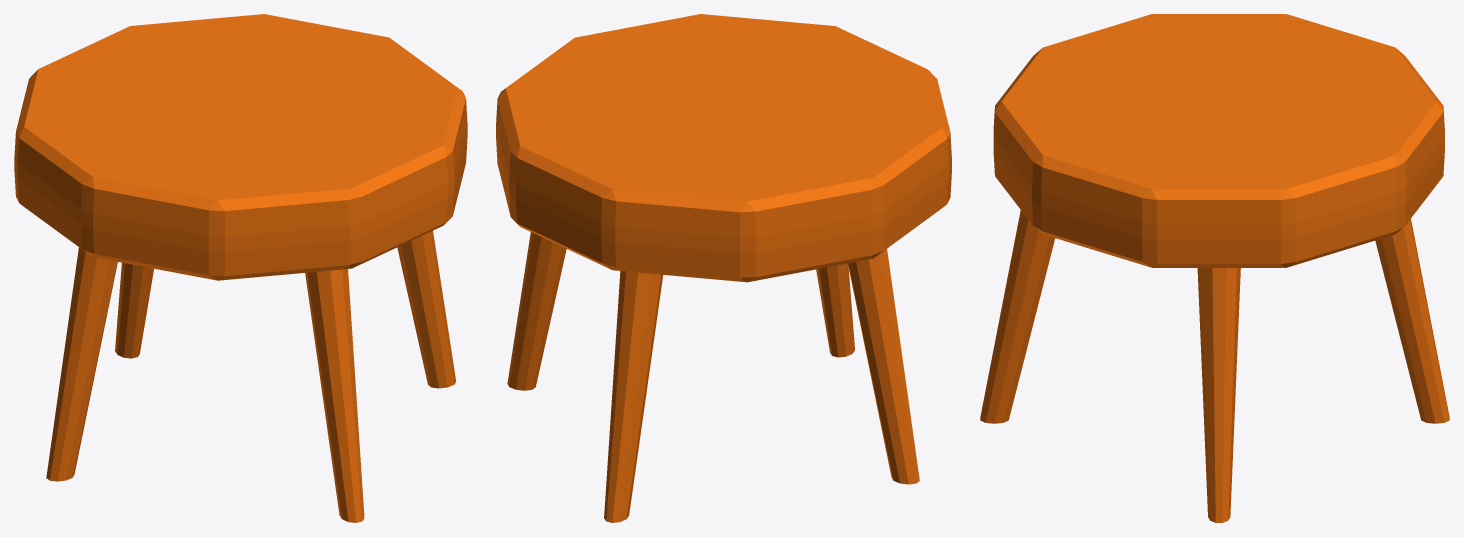
File: Coffee Table.fbx
3 renders of one model, left to right at view 1: azimuth 30°, elevation 25°; view 2: azimuth 150°, elevation 25°; view 3: azimuth 270°, elevation 25°, orthographic. The views are drawn at different scales.
Parts seen in each view (by area): view 1: coffeetable; view 2: coffeetable; view 3: coffeetable.
Boxes of the visible parts, bbox=[...] form: coffeetable: bbox=[14, 14, 467, 522]; coffeetable: bbox=[496, 14, 951, 522]; coffeetable: bbox=[980, 14, 1449, 522].
Size of the model in its own units: 125 by 95.89 by 128.
